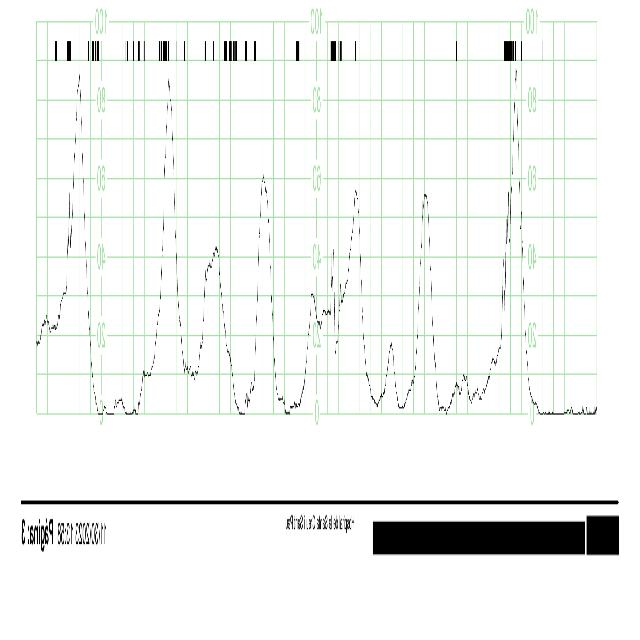contraction: (498, 56, 540, 415), (64, 72, 98, 408), (155, 73, 185, 367), (412, 193, 442, 411), (254, 170, 281, 405), (344, 193, 372, 401), (200, 249, 236, 403), (327, 249, 338, 347), (384, 344, 398, 404)
